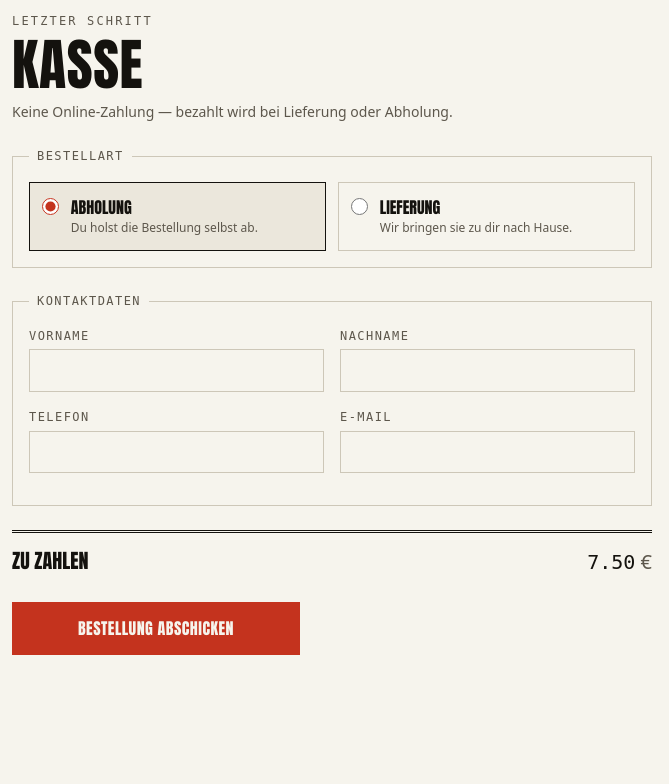
CheckoutComponent › shows address fields once delivery is selected
The image size is (669, 784).
Click the radio button with test id "order-type-delivery". click: (359,206)
box: [351,198,368,215]
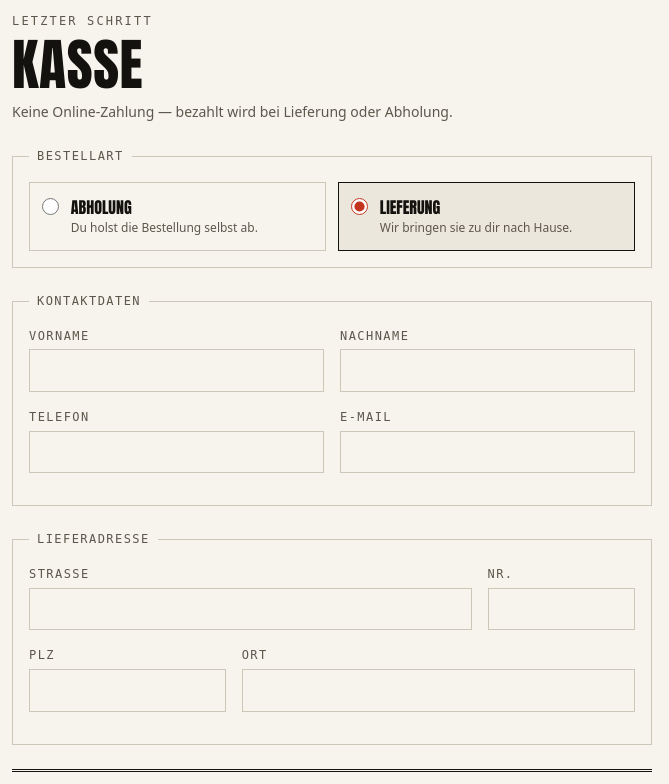
expect the field with test id "street" is shown: met, box [29,588,472,630]
